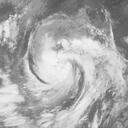cyclone: (25, 11, 118, 111)
